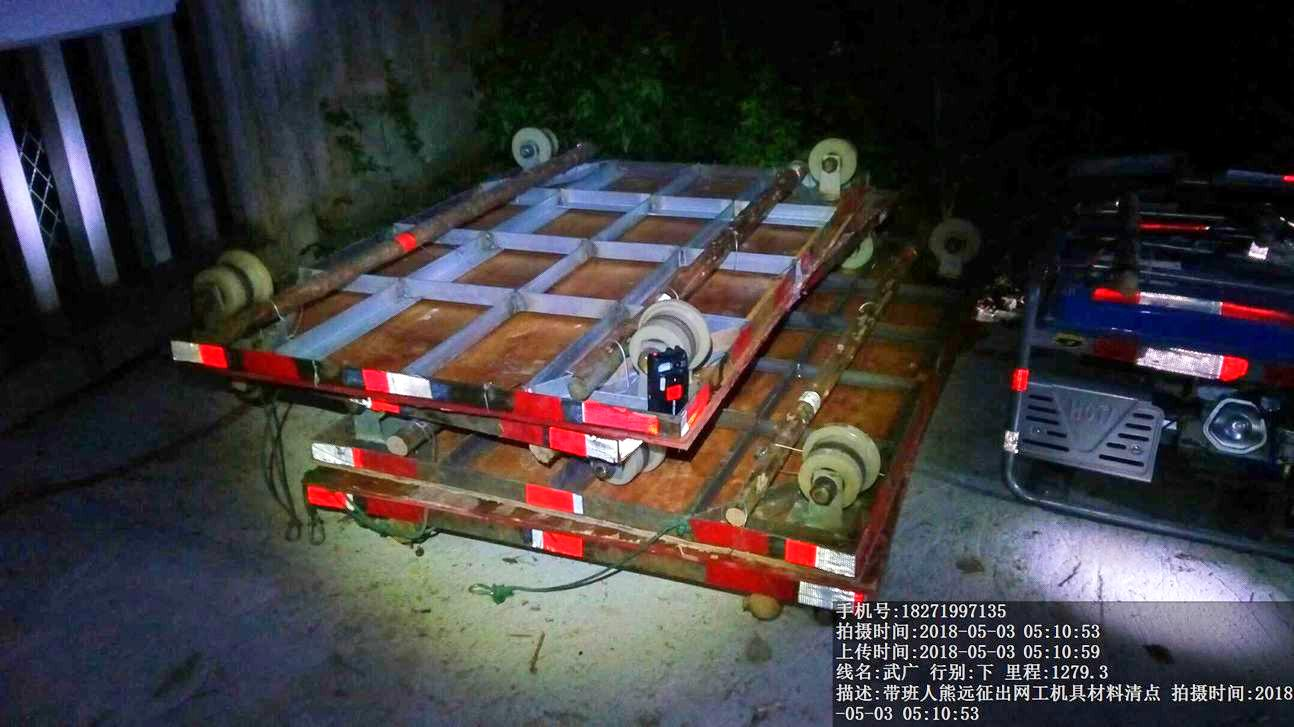DJ: (997, 198, 1294, 586)
